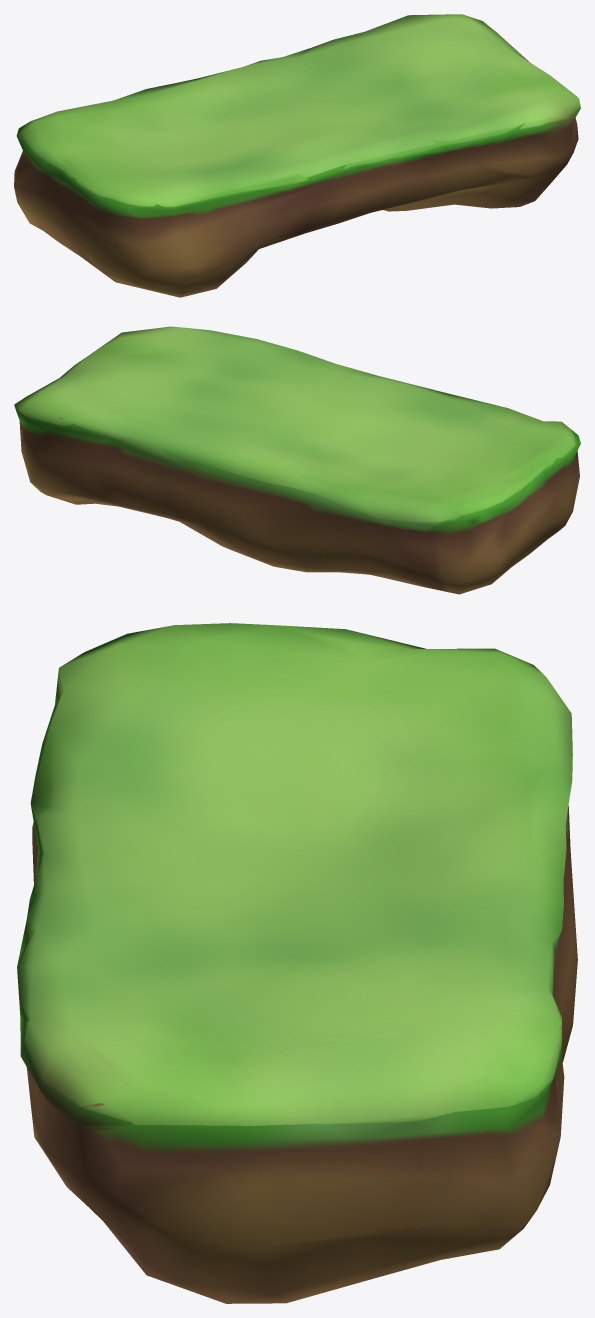
The model's file is block_1.fbx.
3 views of the same model, one above another, from view 1: azimuth 30°, elevation 25°; view 2: azimuth 150°, elevation 25°; view 3: azimuth 270°, elevation 25° (orthographic). The views are drawn at different scales.
Parts seen in each view (by area): view 1: hp.001; view 2: hp.001; view 3: hp.001.
Boxes of the visible parts, x1,y1,x2,y2 form: hp.001: (14, 14, 580, 297); hp.001: (14, 326, 580, 594); hp.001: (17, 623, 577, 1303).
Bounding box in the file's own units: 2520 × 668 × 1269.
1 material, 1 textured.
